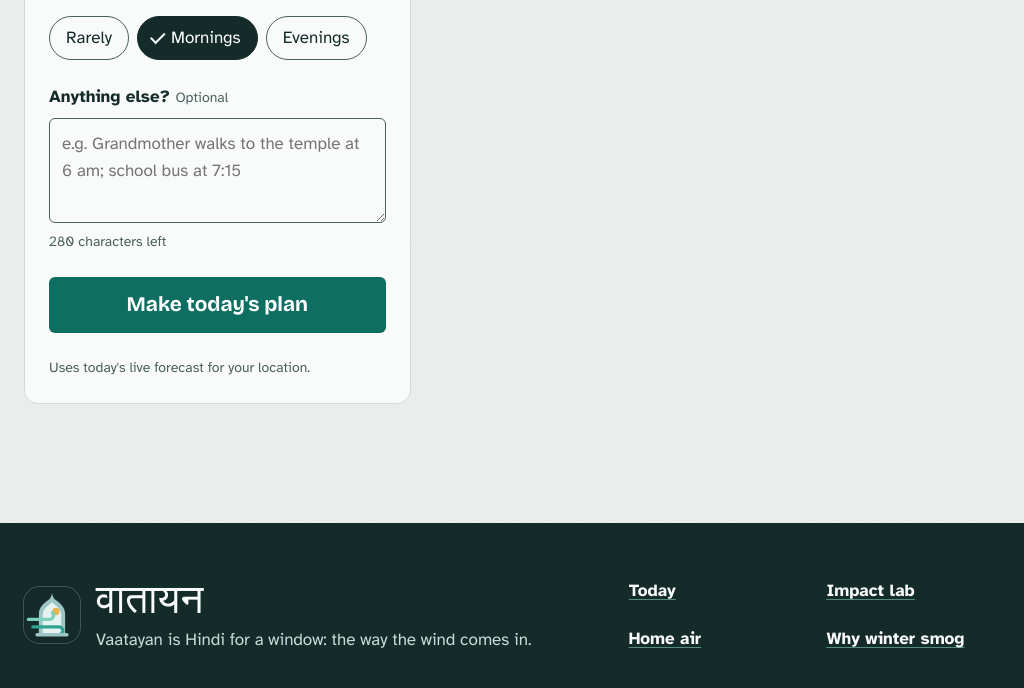
Test: VaatayanApp: the Today page › switches city from search and clears the old plan
(page scrolled)
Click the button "Make today's plan".
click(217, 305)  # box [49,277,386,333]
(page scrolled)
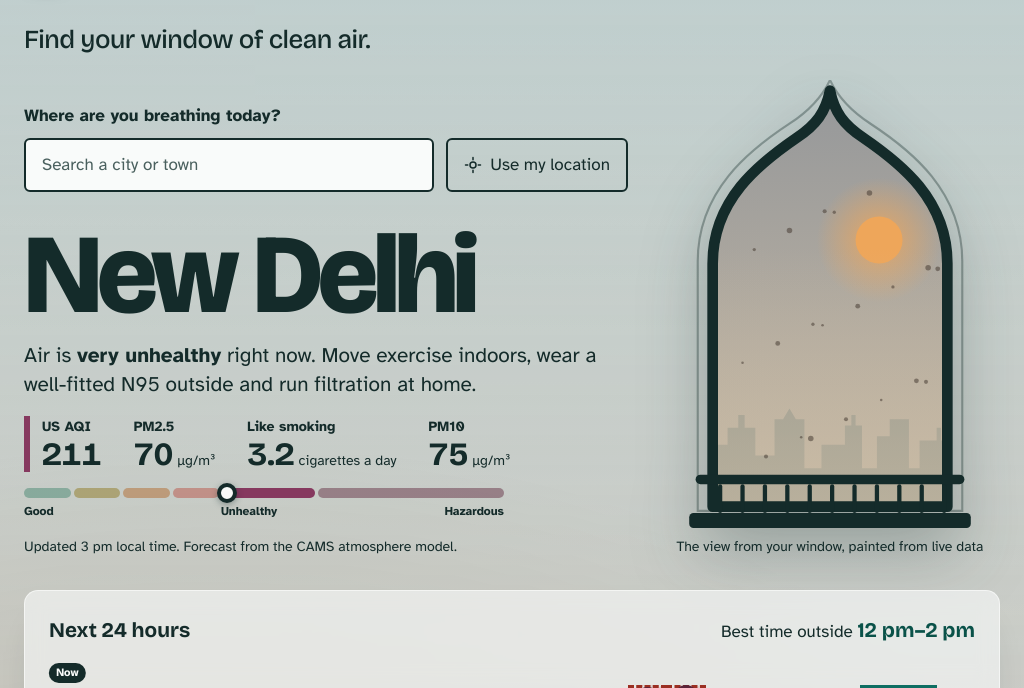
Type "Pune" into the dropdown labelled "Where are you breathing today?".
click(229, 165); type("Pune")  # box [24,138,434,192]
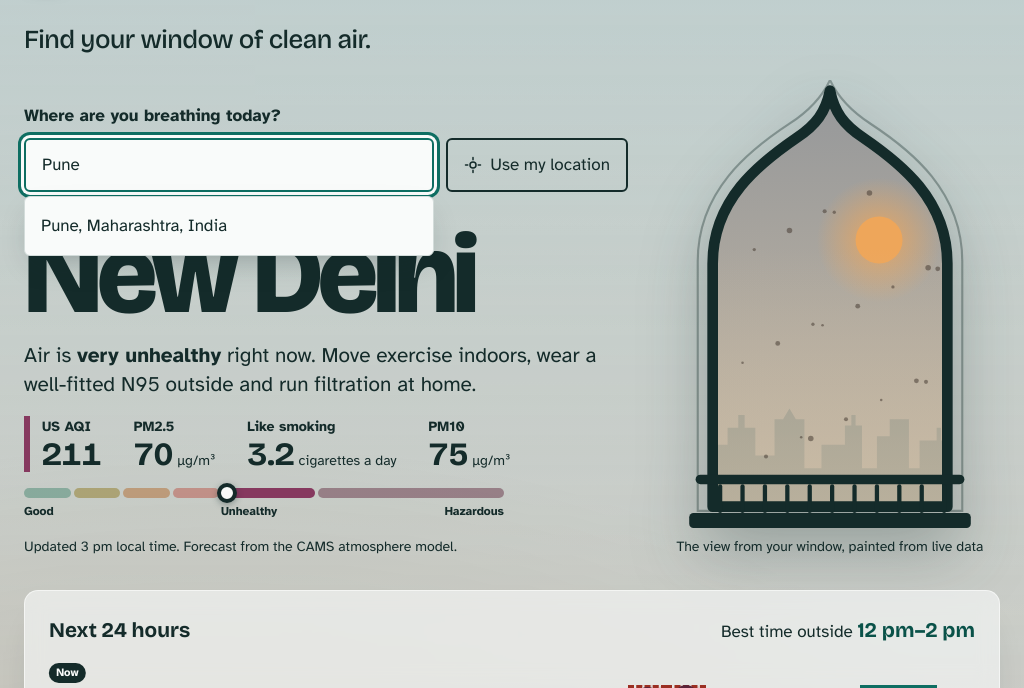
Click the option "Pune, Maharashtra, India".
click(134, 225)  # box [41,215,227,236]
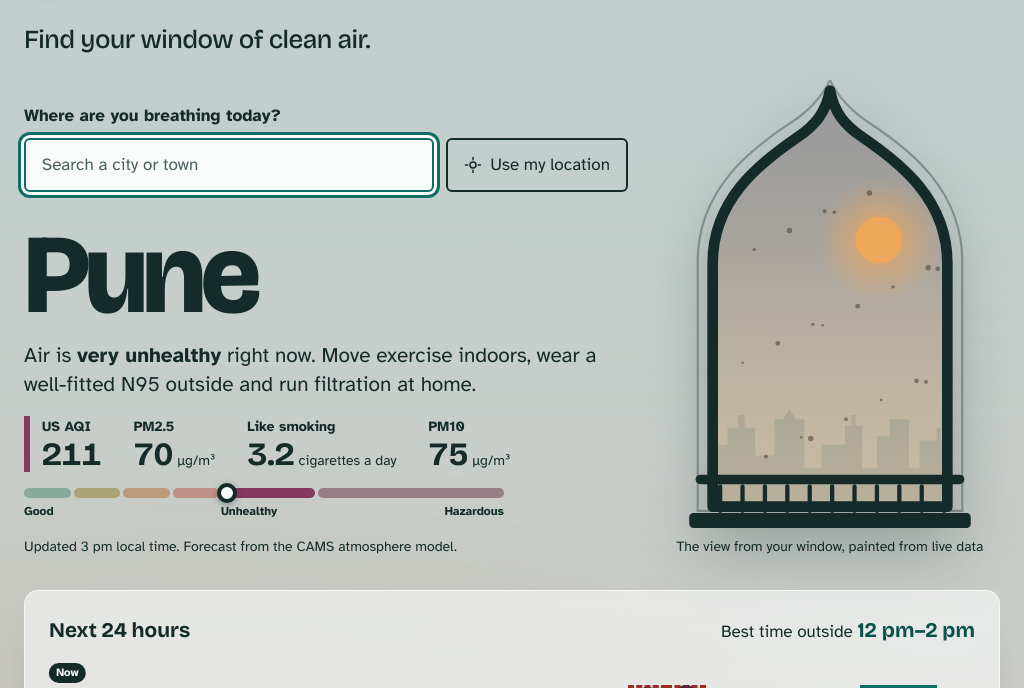
Expected: the heading "Pune" is shown, [24,207,256,342]
